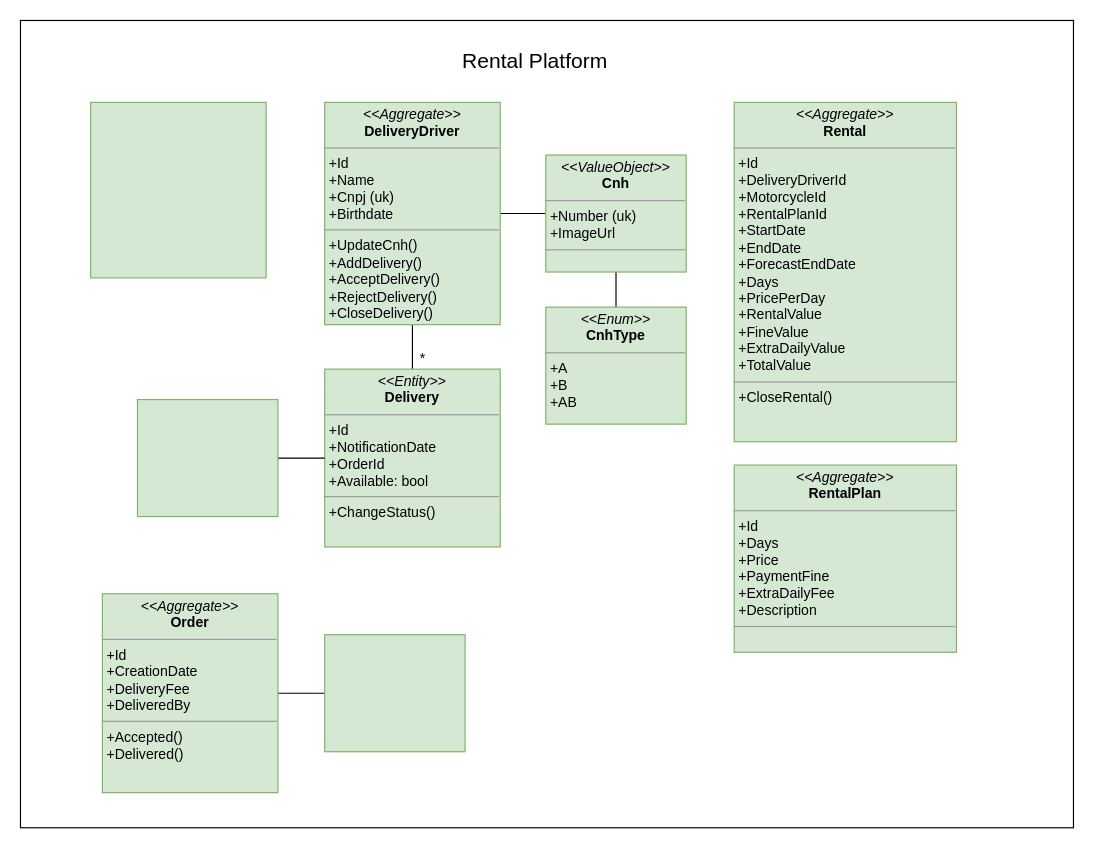
Some shapes in this 1094 by 848 pixel diagram are drawn without their labels. Here are the shapes that lost their labels. From the top down, the centre of each, then its label:
At point 178,189: "<<Aggregate>> Motorcycle +Id +Year +Model +Plate (uk) +ChangePlate()".
At point 207,457: "<<Enum>> DeliveryStatus +Accepted +Rejected +Delivered".
At point 394,693: "<<Enum>> OrderStatus +Available +Accepted +Delivered".
